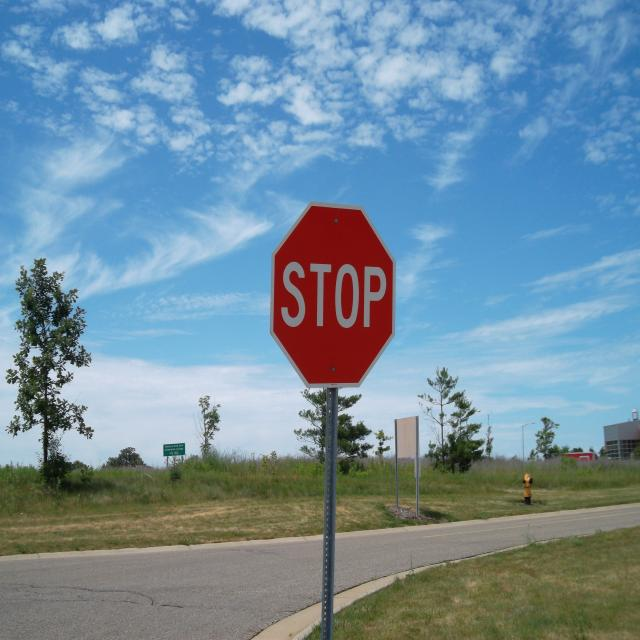stop: (267, 197, 401, 391)
